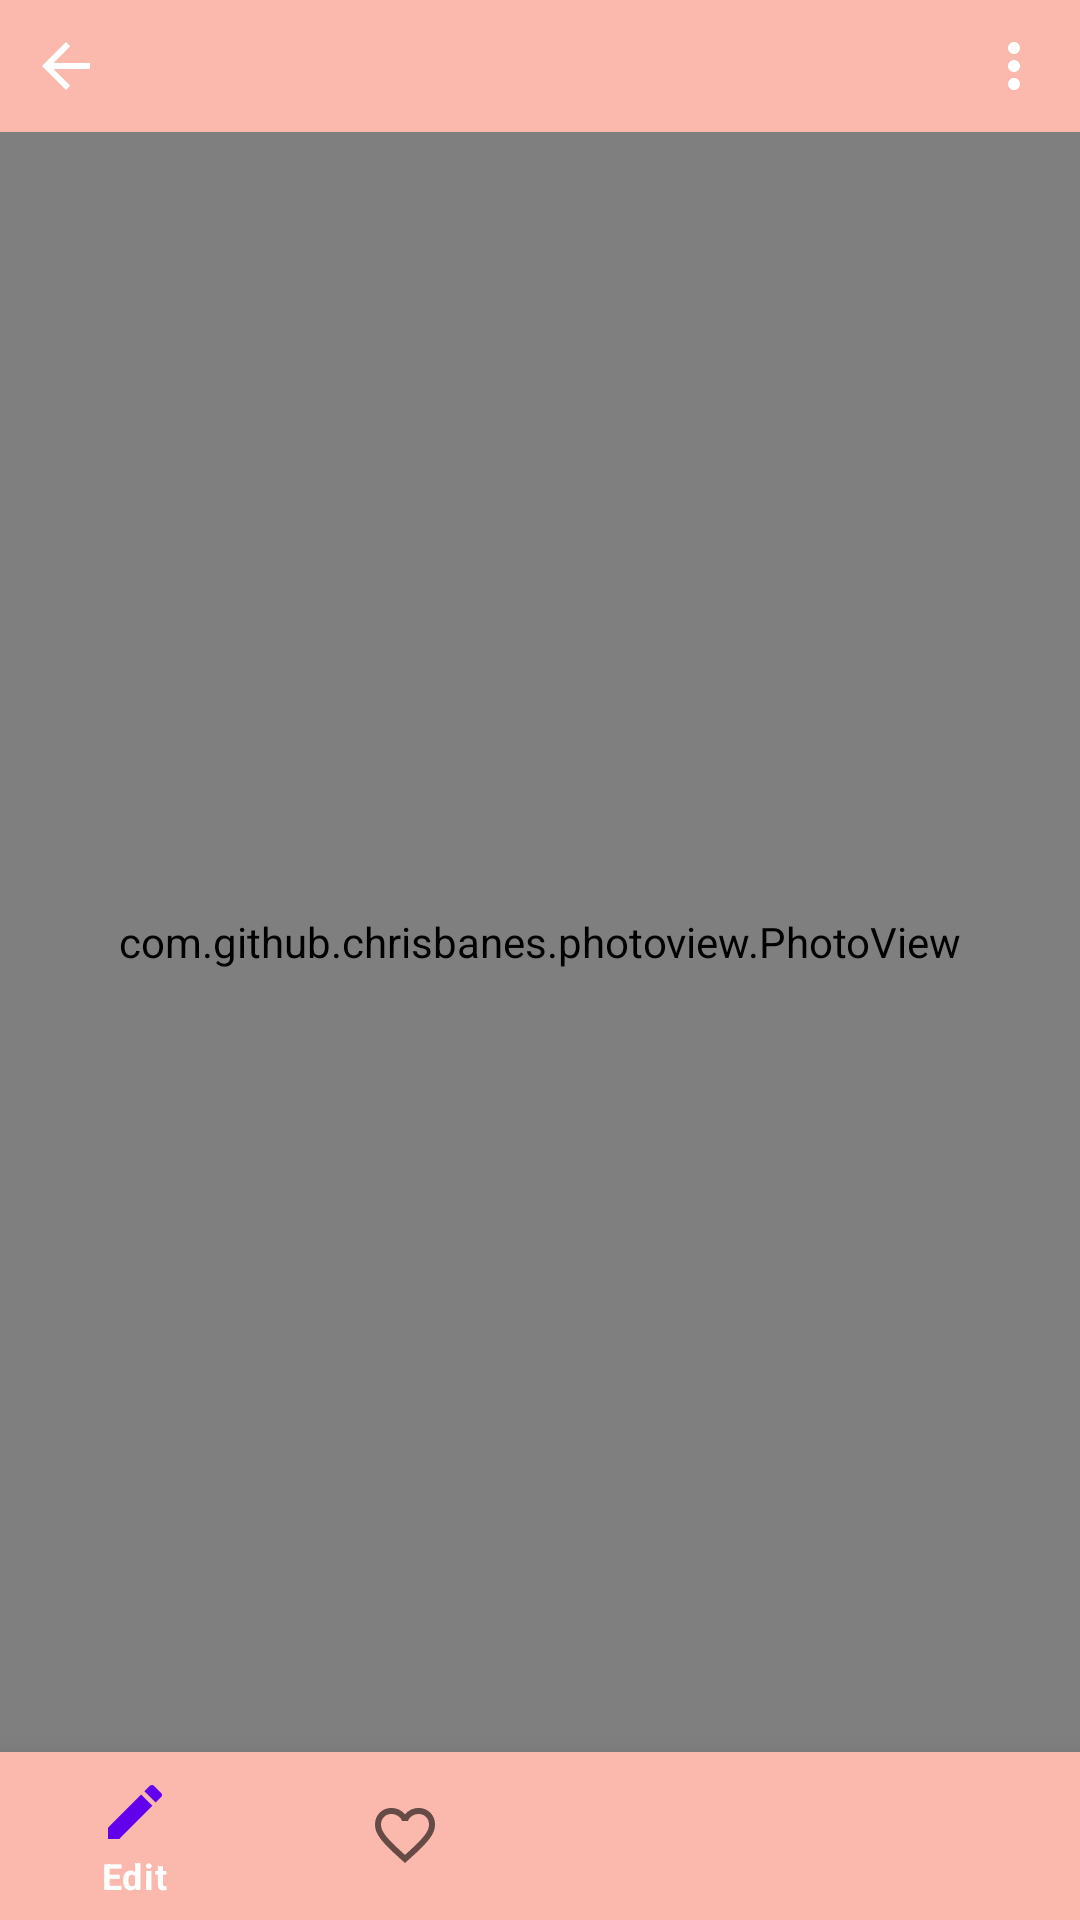

Named icons in this screenshot (1080 x 1920) and their centers, point (x, y):
back: point (66, 66)
more: point (1014, 66)
